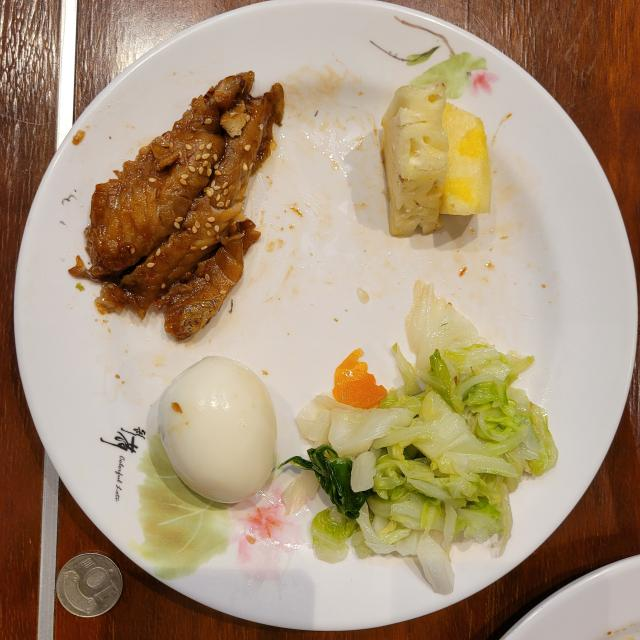Kabayaki sea bream fillet: (69, 71, 284, 339)
cabbage: (284, 281, 558, 594)
coin: (56, 552, 122, 618)
pineapple: (381, 81, 491, 238)
